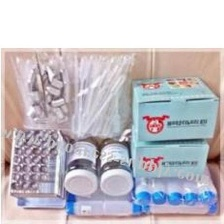book: (128, 73, 220, 144), (125, 117, 212, 180)
